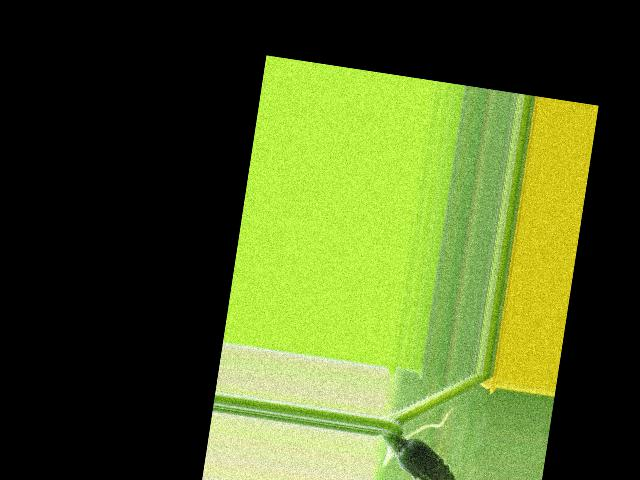cucumber: (390, 435, 475, 480)
